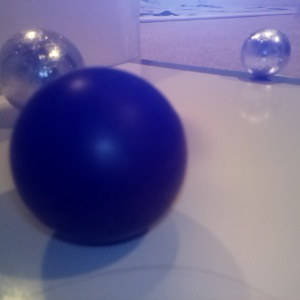alive_ball: (1, 28, 86, 115), (241, 28, 291, 77)
dead_ball: (10, 69, 185, 241)
